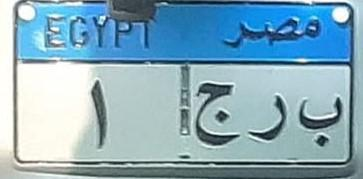1: (73, 67, 129, 155)
ب: (298, 79, 348, 160)
ج: (187, 70, 240, 154)
ر: (244, 84, 293, 155)
